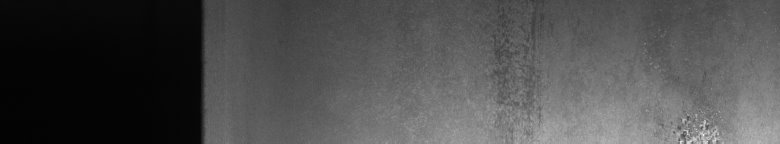hc: (650, 62, 732, 136)
